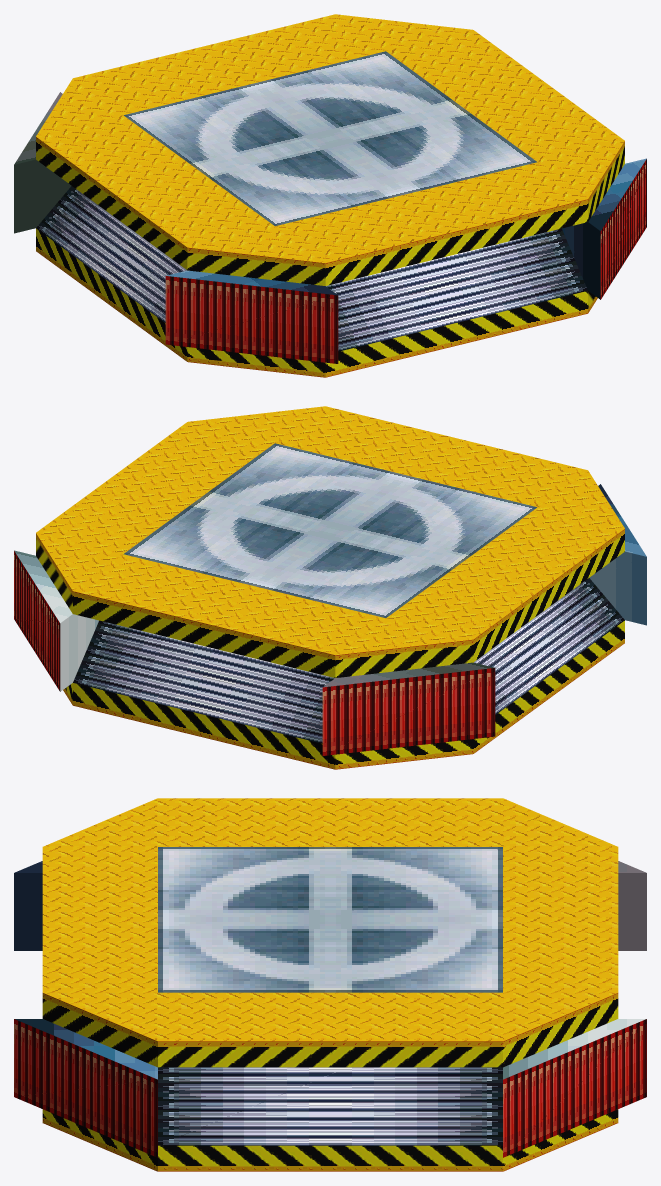
Rendered from FloatingPlatform.obj.
3 views of the same model, one above another, from view 1: azimuth 30°, elevation 25°; view 2: azimuth 150°, elevation 25°; view 3: azimuth 270°, elevation 25° (orthographic). The views are drawn at different scales.
Bounding box in the file's own units: 154 × 35 × 154.
7 materials, 7 textured.
